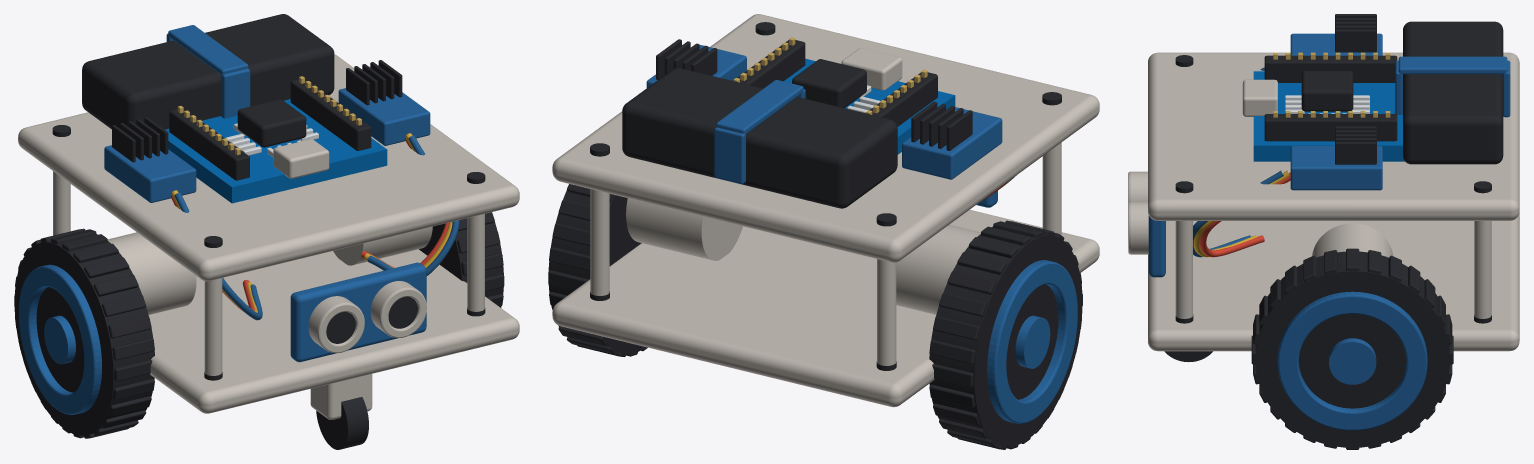
The model's file is anatomy-37.glb.
3 renders of one model, left to right at view 1: azimuth 30°, elevation 25°; view 2: azimuth 150°, elevation 25°; view 3: azimuth 270°, elevation 25°, orthographic. The views are drawn at different scales.
Visible parts, largest first — view 1: deck, wheels, chassis, battery, driver, range, controller, ports, motors, caster, battery-strap, wires; view 2: deck, chassis, wheels, battery, motors, driver, ports, controller, battery-strap; view 3: deck, wheels, chassis, battery, driver, ports, controller, battery-strap, range, motors, wires, caster.
Part boxes in pixels (bbox=[...]): deck: bbox=[18, 54, 519, 375]; wheels: bbox=[14, 212, 504, 438]; chassis: bbox=[18, 249, 519, 413]; battery: bbox=[82, 14, 334, 129]; driver: bbox=[104, 60, 430, 202]; range: bbox=[290, 262, 426, 362]; controller: bbox=[165, 99, 387, 203]; ports: bbox=[169, 76, 371, 180]; motors: bbox=[107, 226, 432, 314]; caster: bbox=[310, 374, 372, 449]; battery-strap: bbox=[166, 25, 250, 118]; wires: bbox=[170, 133, 459, 320]; deck: bbox=[552, 14, 1099, 365]; chassis: bbox=[552, 209, 1099, 407]; wheels: bbox=[548, 184, 1082, 449]; battery: bbox=[622, 68, 897, 208]; motors: bbox=[626, 198, 980, 314]; driver: bbox=[646, 39, 1002, 179]; ports: bbox=[733, 37, 937, 126]; controller: bbox=[784, 58, 955, 154]; battery-strap: bbox=[714, 79, 805, 184]; deck: bbox=[1148, 52, 1519, 318]; wheels: bbox=[1251, 248, 1453, 449]; chassis: bbox=[1148, 211, 1519, 351]; battery: bbox=[1403, 21, 1503, 164]; driver: bbox=[1290, 14, 1382, 190]; ports: bbox=[1242, 52, 1397, 141]; controller: bbox=[1253, 71, 1404, 161]; battery-strap: bbox=[1395, 56, 1510, 117]; range: bbox=[1128, 171, 1165, 277]; motors: bbox=[1312, 223, 1393, 257]; wires: bbox=[1193, 67, 1290, 257]; caster: bbox=[1164, 351, 1212, 362].
Size of the model in its own units: 1.7 by 1.2 by 1.44.
